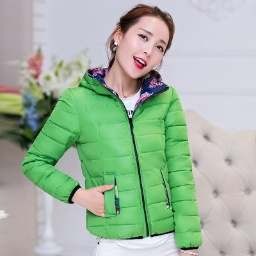face: (99, 3, 188, 109)
